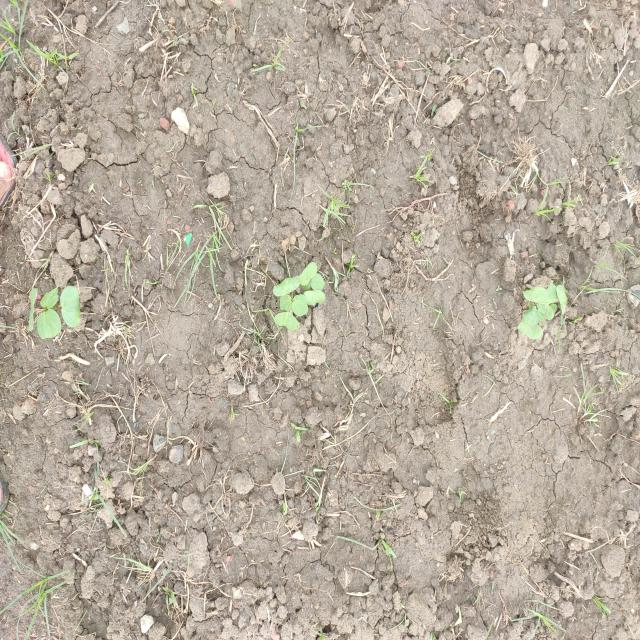seedling_s4: (60, 286, 81, 327), (37, 308, 61, 338), (273, 276, 300, 296), (523, 287, 552, 304), (275, 311, 299, 329), (299, 262, 317, 285), (518, 323, 543, 339), (40, 287, 59, 308), (28, 288, 37, 331), (303, 290, 326, 306), (521, 306, 539, 326), (292, 294, 308, 316), (556, 285, 567, 315), (547, 281, 559, 303), (311, 273, 325, 290), (279, 294, 292, 311), (536, 303, 545, 321), (545, 304, 554, 320), (549, 304, 557, 313)
